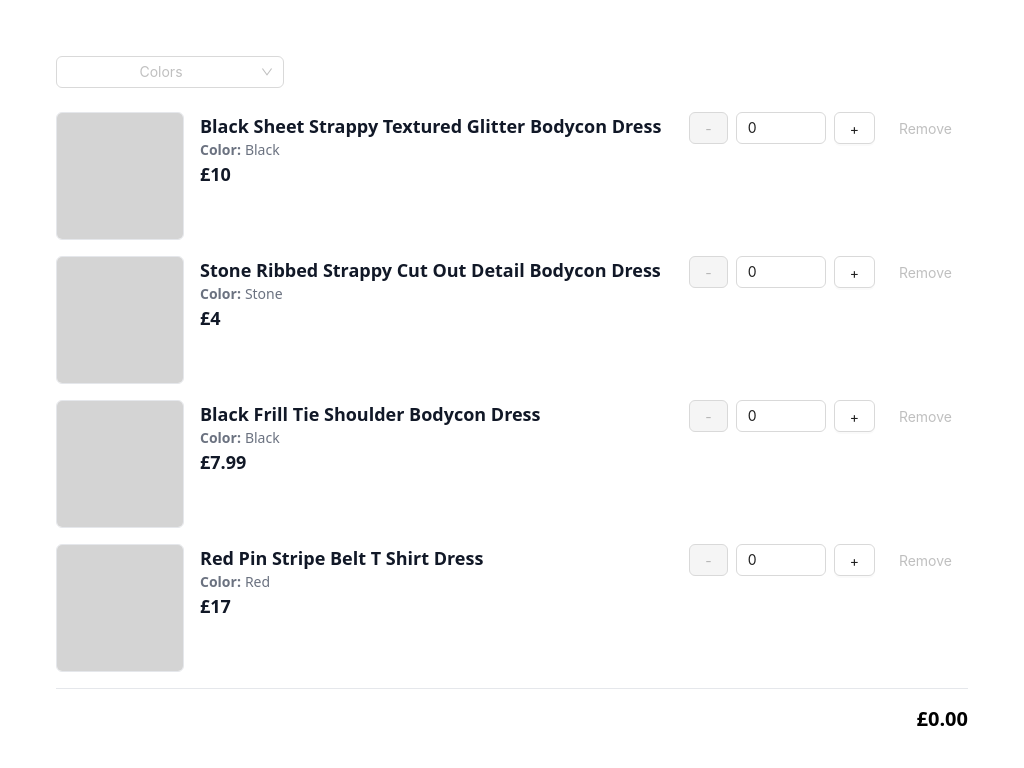
it: Products component › removeQuantity removes quantity state correctly
Click the button with test id "plus-quantity-1" at [854, 128], box x1=834 y1=112 x2=875 y2=144
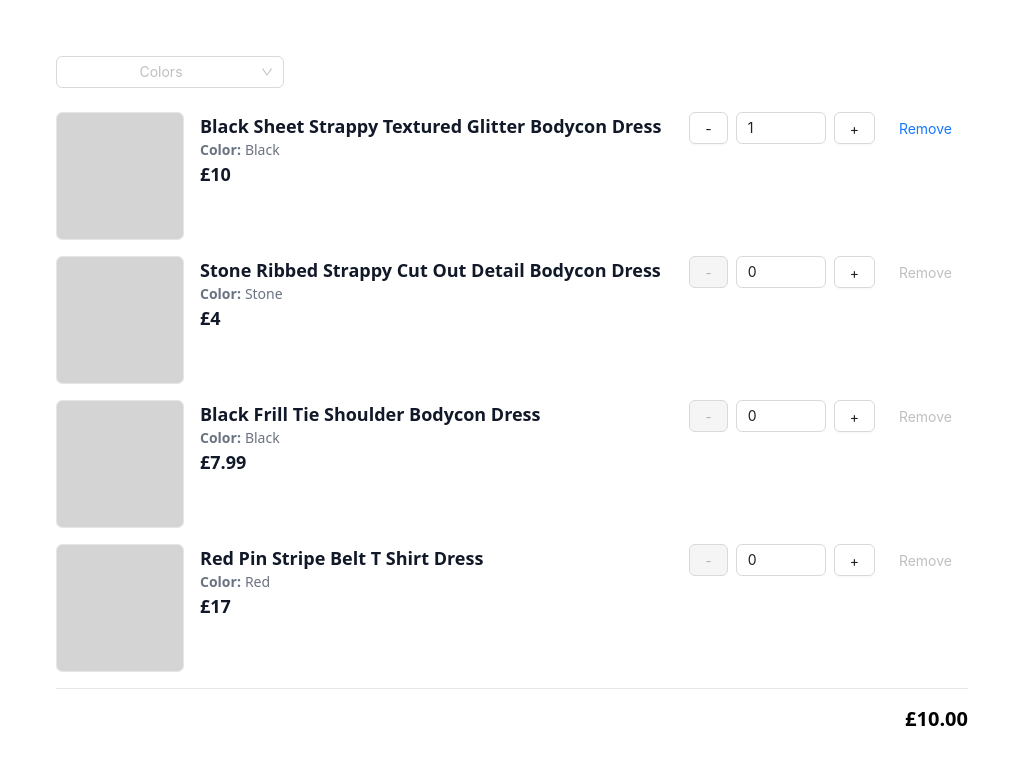
Click the button with test id "remove-quantity-1" at [925, 128], box x1=883 y1=112 x2=968 y2=144
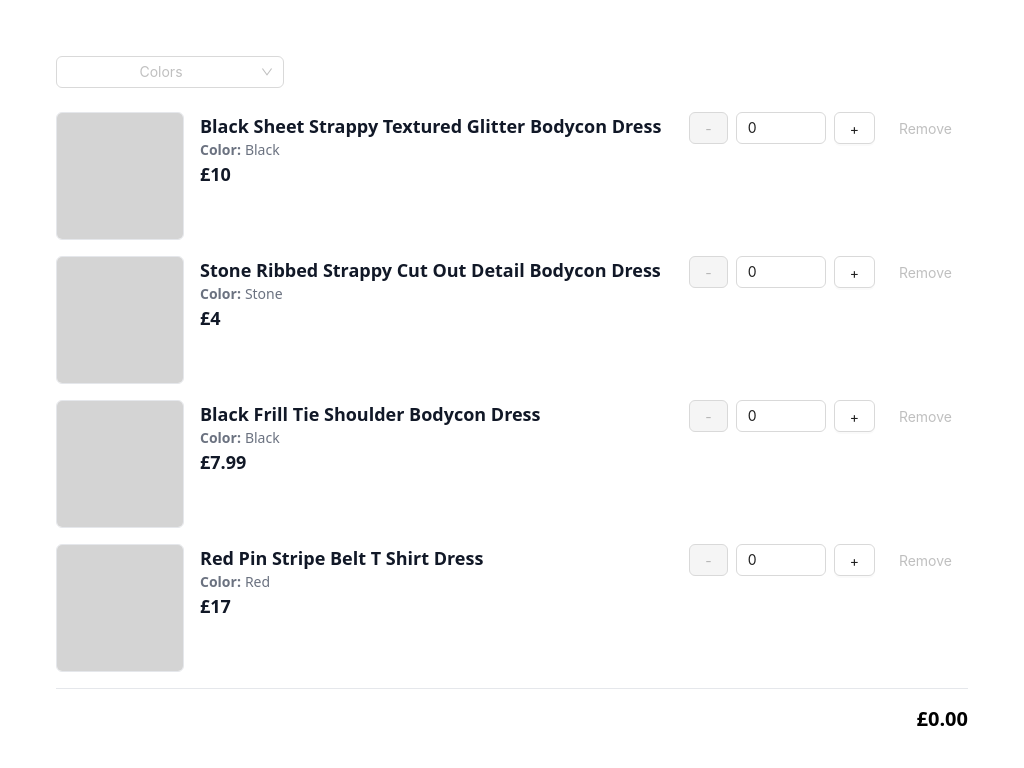
expect the number field with test id "quantity-1" holds "0": met, box x1=737 y1=113 x2=825 y2=143
